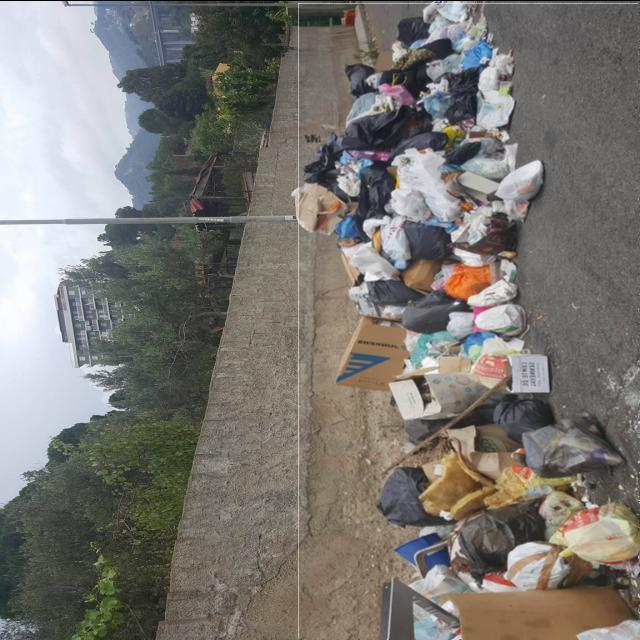Trashbag: (454, 505, 540, 571), (379, 464, 438, 536), (342, 107, 429, 152), (308, 137, 357, 206), (397, 292, 469, 336), (494, 390, 554, 441), (443, 65, 488, 129), (360, 164, 397, 222), (406, 220, 454, 262), (344, 56, 379, 102), (394, 12, 434, 46)
